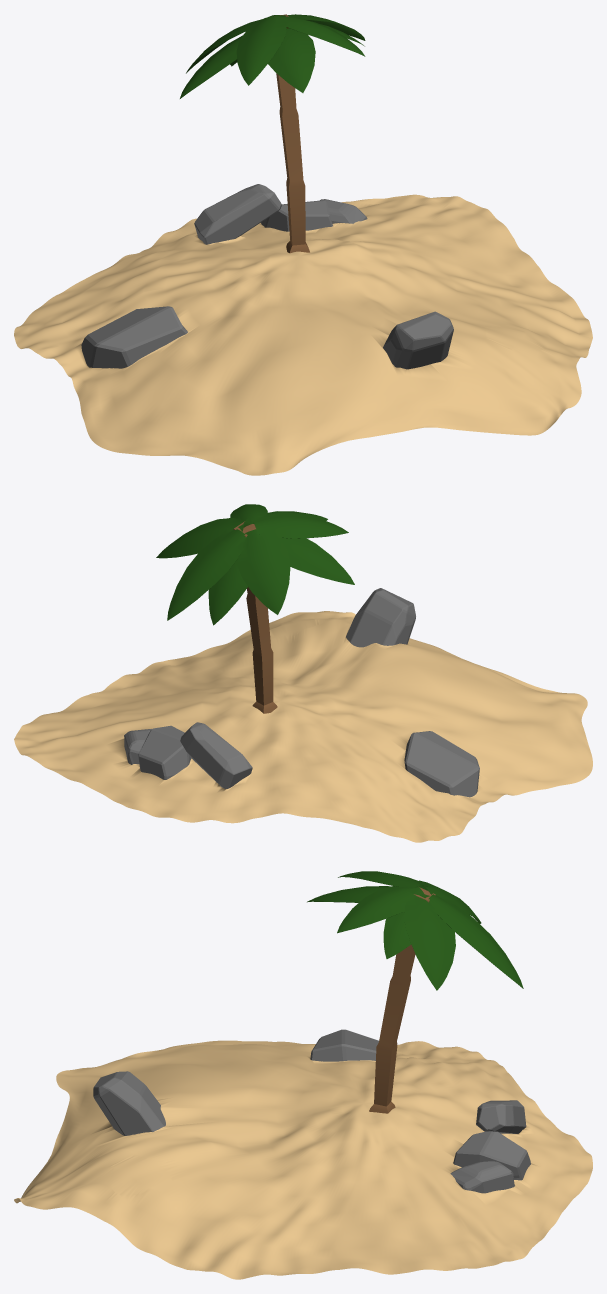
The model's file is islandLow.fbx.
The picture shows the model from 3 angles, top to bottom: view 1: azimuth 30°, elevation 25°; view 2: azimuth 150°, elevation 25°; view 3: azimuth 270°, elevation 25°; orthographic projection. The views are drawn at different scales.
Parts seen in each view (by area): view 1: Камни, Пальма; view 2: Камни, Пальма; view 3: Камни, Пальма.
Part boxes in pixels (<box>): Камни: <box>14,184,592,475</box>; Пальма: <box>180,14,365,253</box>; Камни: <box>14,588,592,842</box>; Пальма: <box>156,504,354,713</box>; Камни: <box>14,1029,592,1279</box>; Пальма: <box>307,871,523,1113</box>.
Bounding box in the file's own units: 1476 × 799 × 1449.
